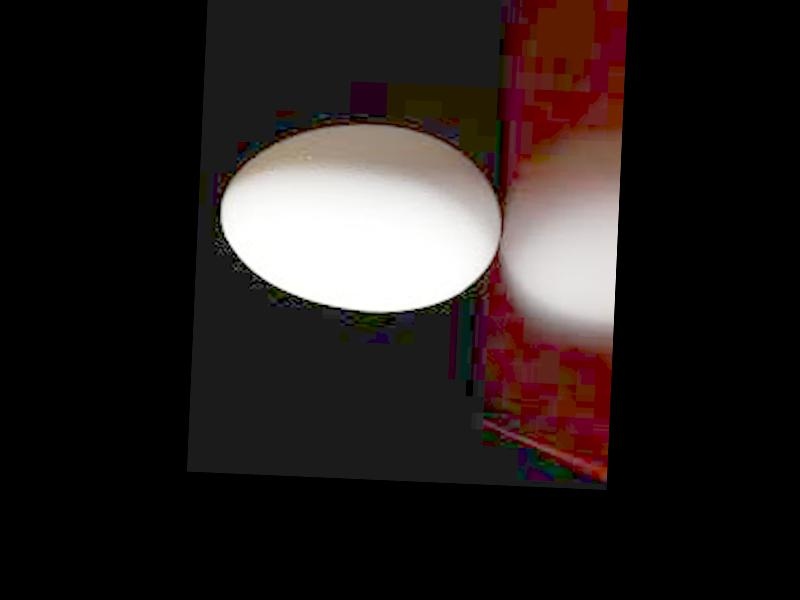Eggs: (217, 120, 505, 316)
